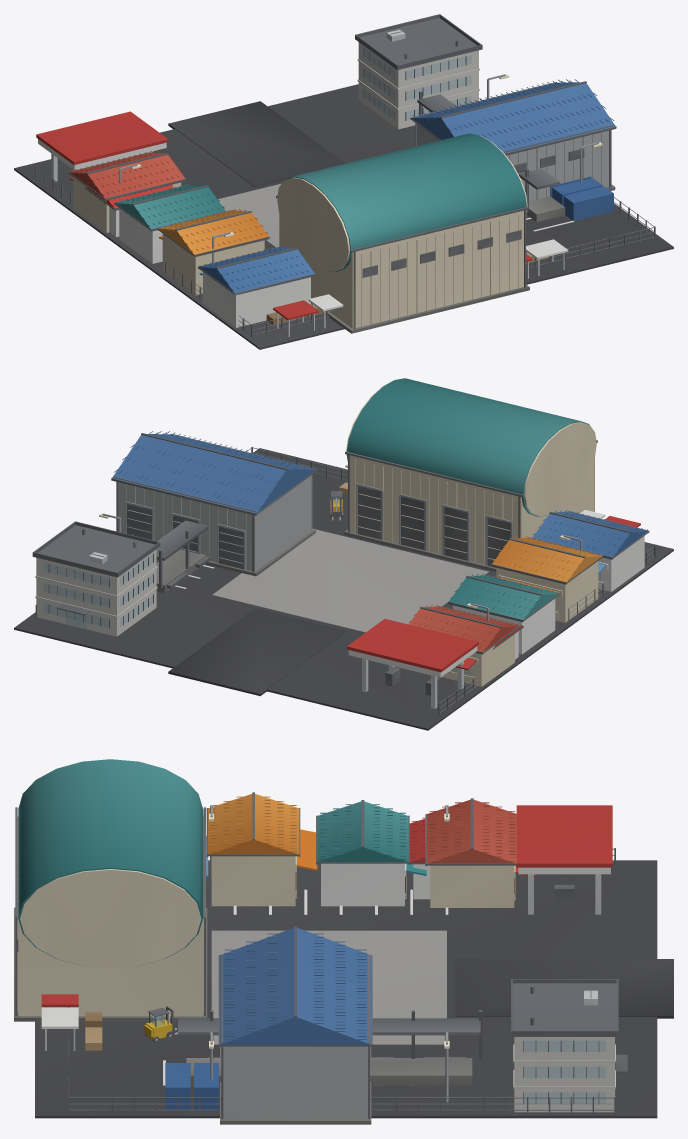
File: Market_P3.fbx
3 renders of one model, top to bottom at view 1: azimuth 30°, elevation 25°; view 2: azimuth 150°, elevation 25°; view 3: azimuth 270°, elevation 25°, orthographic. The views are drawn at different scales.
Parts seen in each view (by area): view 1: Market.WH1, Market.Pad, Market.WH2, Market.Office, Market.Shop3, Market.Shop2, Market.Fuel, Market.Shop0, Market.Shop1, Market.Stalls, Market.Goods, Market.Dock (+2 smaller); view 2: Market.Pad, Market.WH1, Market.WH2, Market.Office, Market.Fuel, Market.Shop2, Market.Shop3, Market.Shop1, Market.Shop0, Market.Dock, Market.Fence; view 3: Market.Pad, Market.WH1, Market.WH2, Market.Office, Market.Shop2, Market.Shop0, Market.Shop1, Market.Fuel, Market.Dock, Market.Fence, Market.Goods, Market.Stalls (+2 smaller).
Boxes of the visible parts, x1=… form: Market.WH1: x1=276, y1=133, x2=529, y2=333; Market.Pad: x1=14, y1=84, x2=673, y2=349; Market.WH2: x1=410, y1=79, x2=616, y2=201; Market.Office: x1=355, y1=14, x2=482, y2=129; Market.Shop3: x1=198, y1=245, x2=315, y2=327; Market.Shop2: x1=157, y1=208, x2=269, y2=295; Market.Fuel: x1=36, y1=111, x2=168, y2=181; Market.Shop0: x1=68, y1=151, x2=186, y2=232; Market.Shop1: x1=114, y1=183, x2=226, y2=263; Market.Stalls: x1=266, y1=239, x2=568, y2=336; Market.Goods: x1=550, y1=176, x2=613, y2=220; Market.Dock: x1=417, y1=91, x2=565, y2=221; Market.Pad: x1=14, y1=448, x2=673, y2=730; Market.WH1: x1=344, y1=378, x2=597, y2=571; Market.WH2: x1=111, y1=431, x2=317, y2=576; Market.Office: x1=32, y1=521, x2=160, y2=636; Market.Fuel: x1=347, y1=619, x2=478, y2=708; Market.Shop2: x1=491, y1=536, x2=603, y2=622; Market.Shop3: x1=532, y1=510, x2=649, y2=591; Market.Shop1: x1=448, y1=573, x2=560, y2=654; Market.Shop0: x1=409, y1=604, x2=519, y2=686; Market.Dock: x1=156, y1=520, x2=210, y2=593; Market.Fence: x1=35, y1=446, x2=655, y2=715; Market.Pad: x1=35, y1=860, x2=673, y2=1118; Market.WH1: x1=14, y1=759, x2=207, y2=1021; Market.WH2: x1=218, y1=926, x2=372, y2=1124; Market.Office: x1=511, y1=979, x2=627, y2=1112; Market.Shop2: x1=206, y1=792, x2=317, y2=906; Market.Shop0: x1=425, y1=798, x2=535, y2=907; Market.Shop1: x1=316, y1=800, x2=426, y2=906; Market.Fuel: x1=516, y1=805, x2=612, y2=914; Market.Dock: x1=178, y1=1010, x2=482, y2=1085; Market.Fence: x1=68, y1=848, x2=615, y2=1112; Market.Goods: x1=165, y1=1063, x2=218, y2=1109; Market.Stalls: x1=41, y1=994, x2=102, y2=1050.
Bounding box in the file's own units: 7474 × 2041 × 7850.
